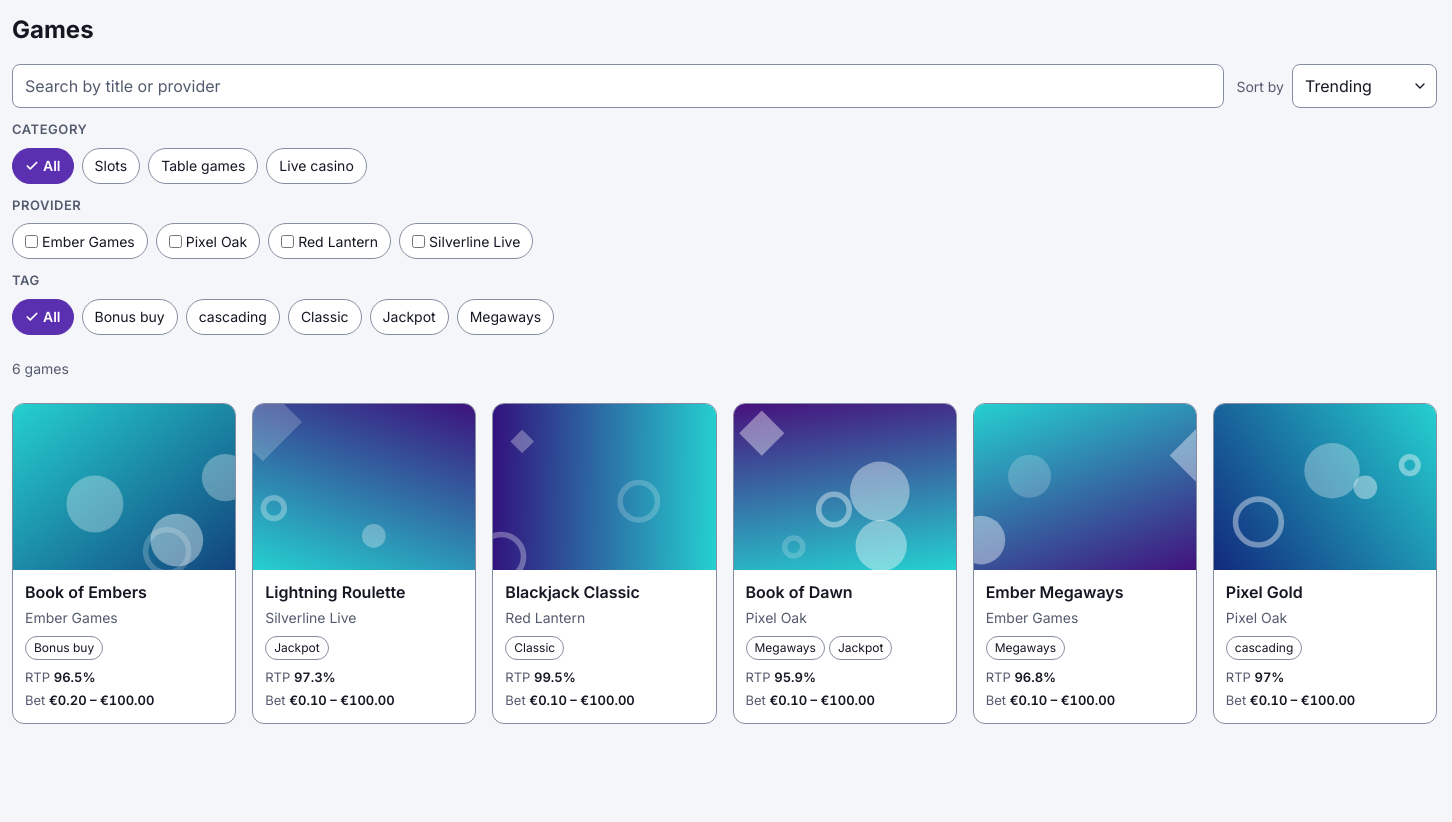
it: Catalog › updates the input instantly and the list and URL after the debounce
In the search field named "Search games": (618, 86) [12,64,1224,108], type "book"
Wait 250 ms
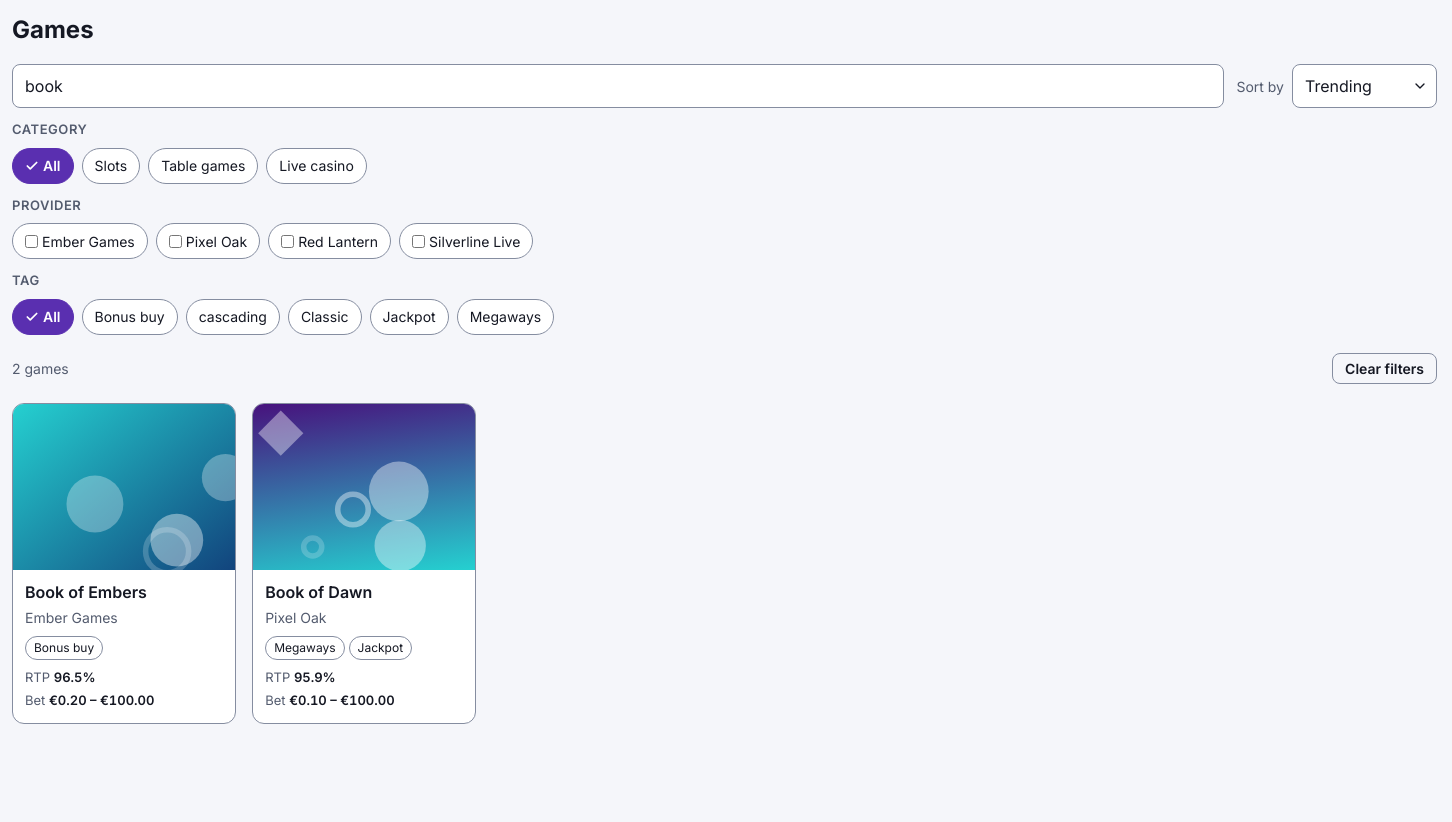
Now the message reads "2 games", box [12,360,69,377]
